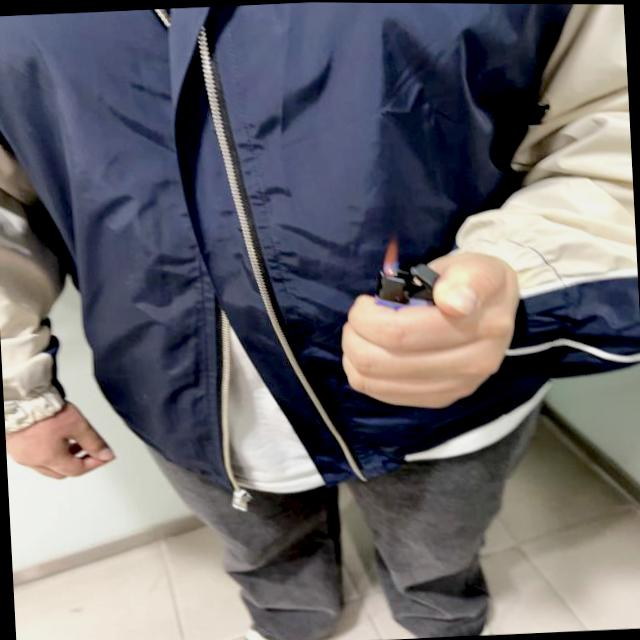Fire: (382, 233, 400, 276)
